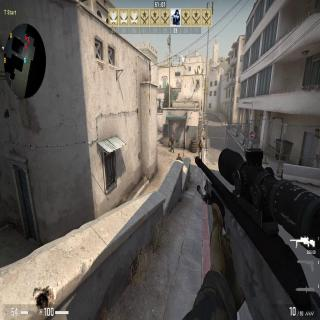T-Body: (198, 139, 203, 159), (170, 134, 174, 153)
T-Head: (178, 152, 181, 160), (200, 138, 202, 142), (172, 135, 174, 138)
